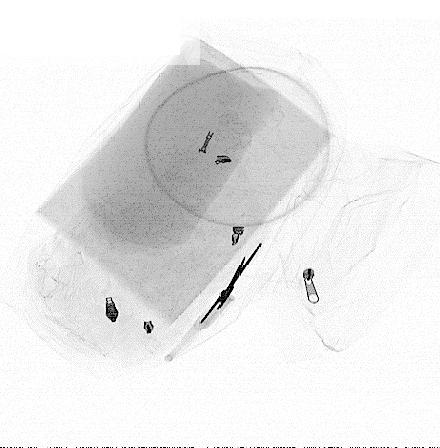Scissors: (192, 239, 263, 333)
